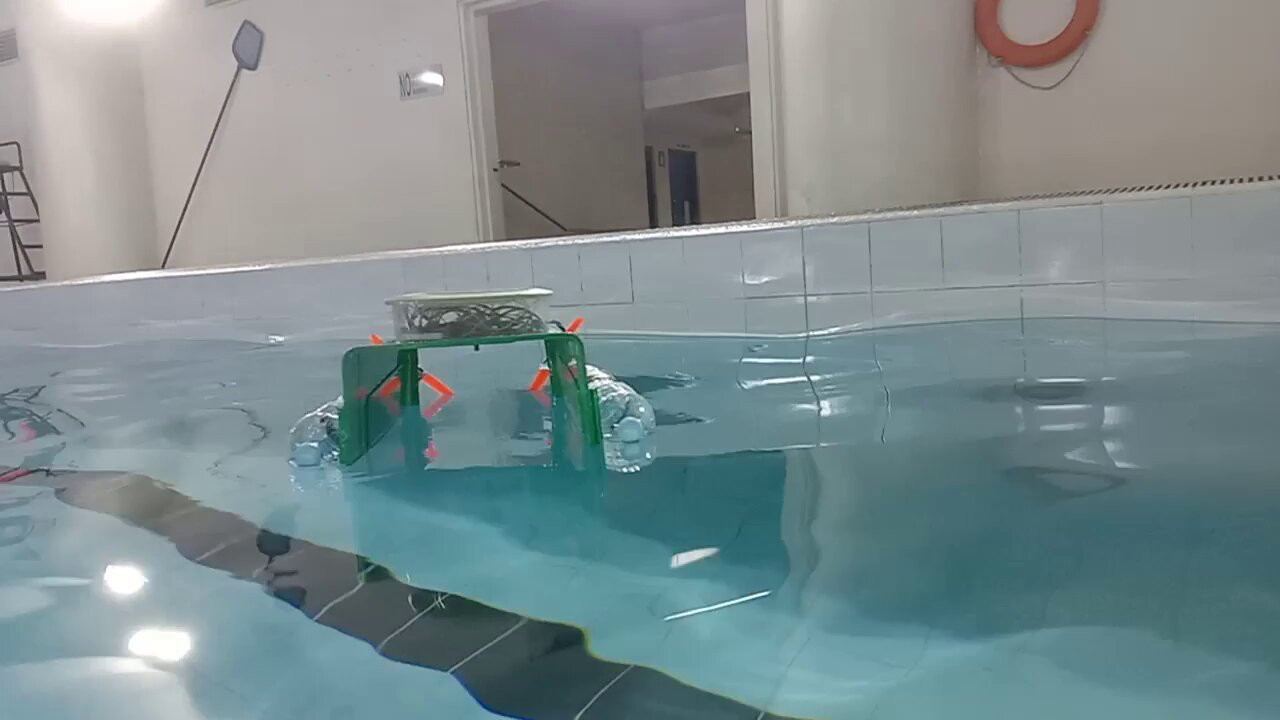drone: (284, 283, 662, 485)
